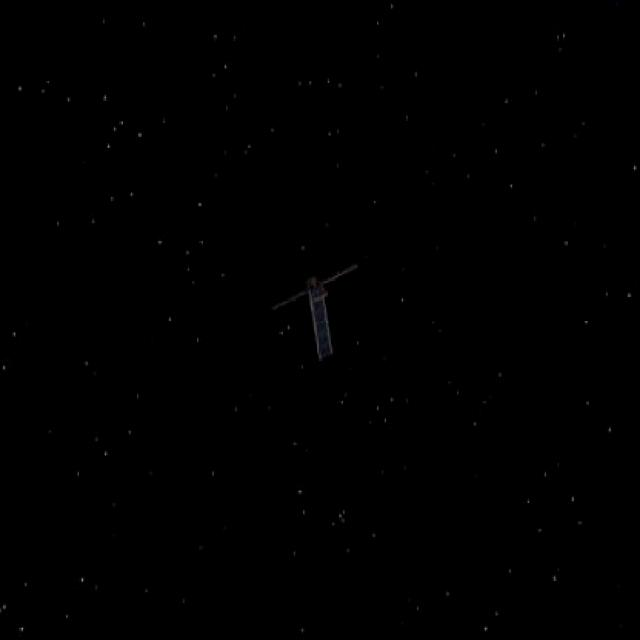satellite: (261, 254, 357, 363)
